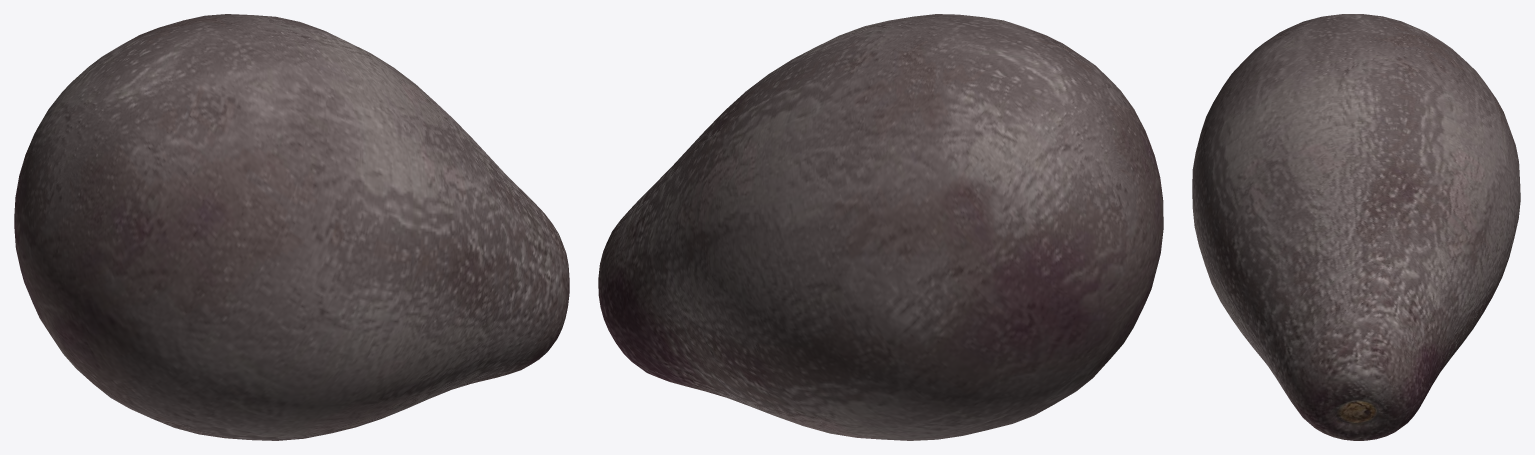
Rendered from SM_DarkBrownAvocado.fbx.
3 renders of one model, left to right at view 1: azimuth 30°, elevation 25°; view 2: azimuth 150°, elevation 25°; view 3: azimuth 270°, elevation 25°, orthographic. The views are drawn at different scales.
Visible parts, largest first — view 1: DarkBrownAvocadoPeel; view 2: DarkBrownAvocadoPeel; view 3: DarkBrownAvocadoPeel.
Part boxes in pixels (box(x1,y1,x2,y2)): DarkBrownAvocadoPeel: box(14, 14, 569, 440); DarkBrownAvocadoPeel: box(598, 14, 1163, 440); DarkBrownAvocadoPeel: box(1192, 14, 1520, 440).
Size of what is drawn, in the model's own units: 10.76 by 7.72 by 7.98.
